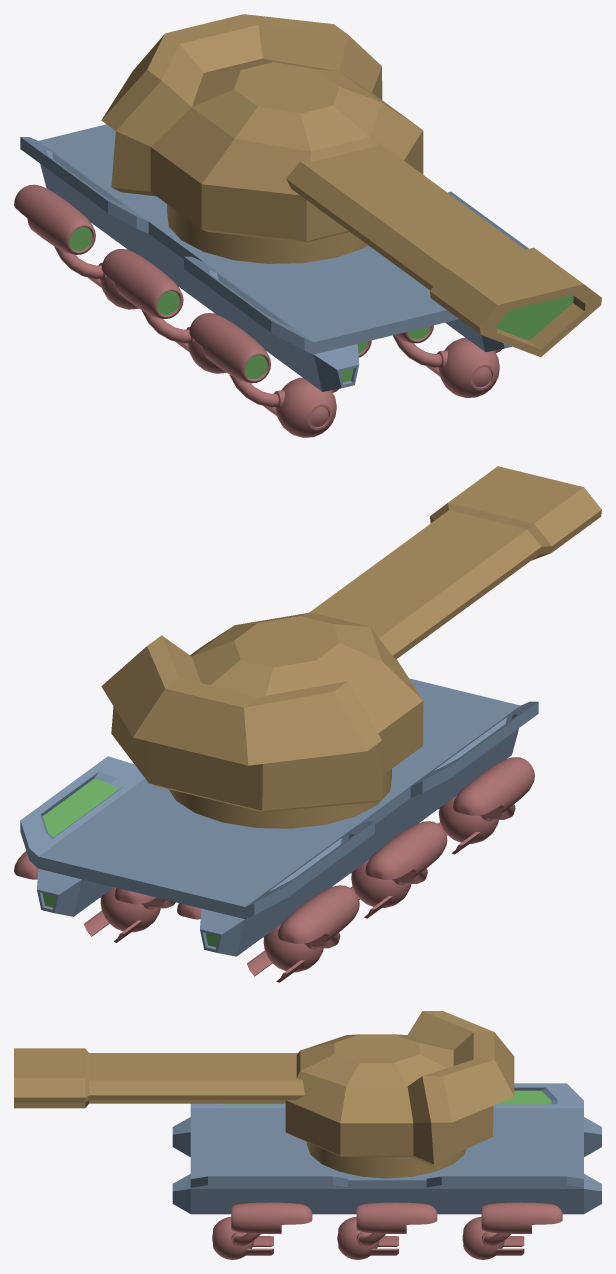
The model's file is enemy_Aa.fbx.
The picture shows the model from 3 angles, top to bottom: view 1: azimuth 30°, elevation 25°; view 2: azimuth 150°, elevation 25°; view 3: azimuth 270°, elevation 25°; orthographic projection. The views are drawn at different scales.
Parts seen in each view (by area): view 1: enemy_Aa_gun, enemy_Aa_base; view 2: enemy_Aa_gun, enemy_Aa_base; view 3: enemy_Aa_base, enemy_Aa_gun.
Boxes of the visible parts, box(x1,y1,x2,y2) form: enemy_Aa_gun: box(101, 14, 601, 357); enemy_Aa_base: box(14, 124, 528, 437); enemy_Aa_gun: box(101, 466, 601, 812); enemy_Aa_base: box(14, 678, 538, 982); enemy_Aa_base: box(172, 1083, 601, 1259); enemy_Aa_gun: box(14, 1011, 514, 1165).
Size of the model in its own units: 1631 by 1343 by 3846.
